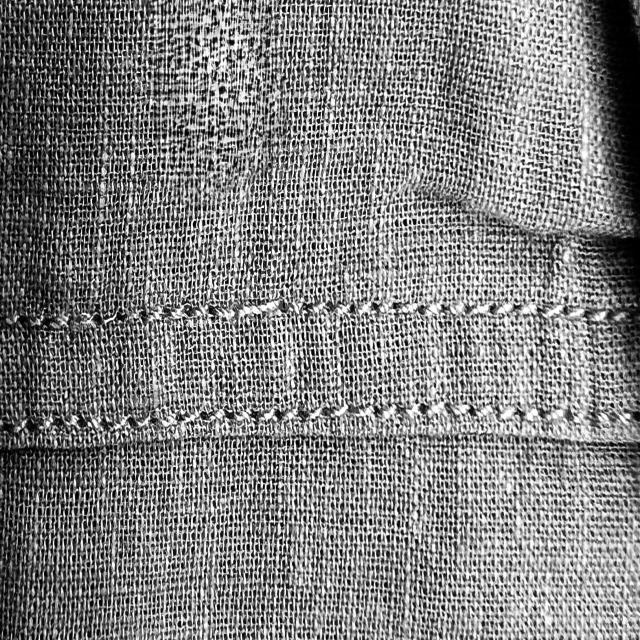Hole: (129, 0, 300, 216)
